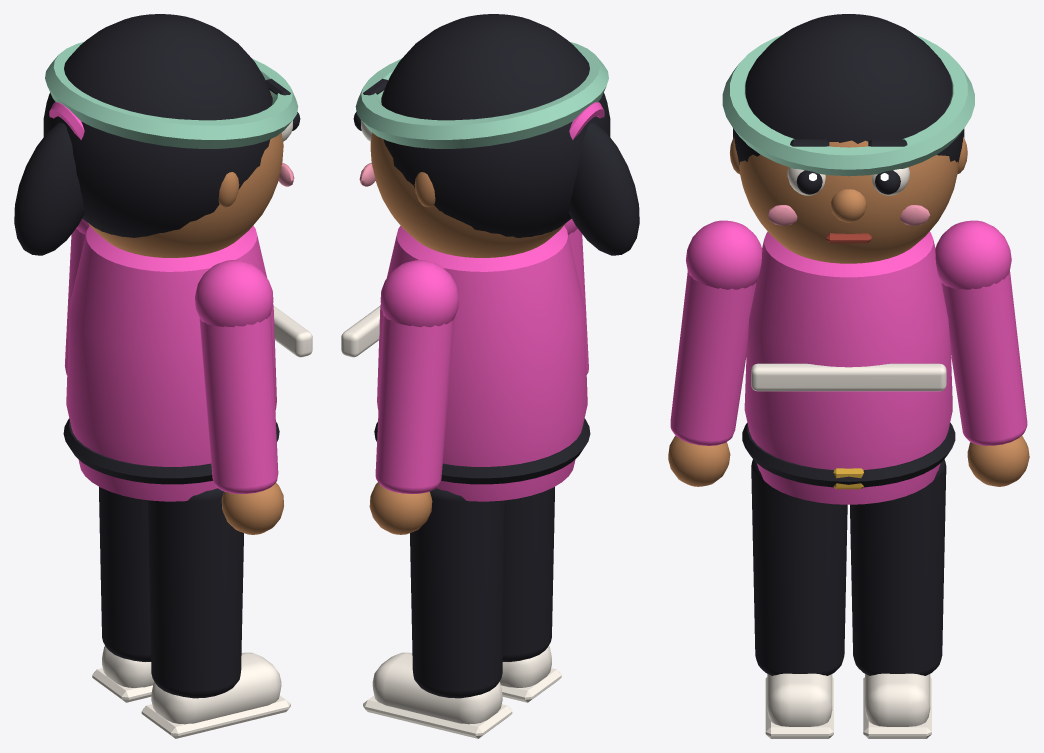
Rendered from ped_jogger.glb.
3 renders of one model, left to right at view 1: azimuth 30°, elevation 25°; view 2: azimuth 150°, elevation 25°; view 3: azimuth 270°, elevation 25°, orthographic.
Parts seen in each view (by area): view 1: ped_jogger; view 2: ped_jogger; view 3: ped_jogger.
Boxes of the visible parts, x1=… form: ped_jogger: x1=14, y1=14, x2=312, y2=738; ped_jogger: x1=341, y1=14, x2=639, y2=738; ped_jogger: x1=668, y1=14, x2=1029, y2=738.
Bounding box in the file's own units: 0.5647 × 1.39 × 0.6762.
Materials: 1 (1 with a texture image).
